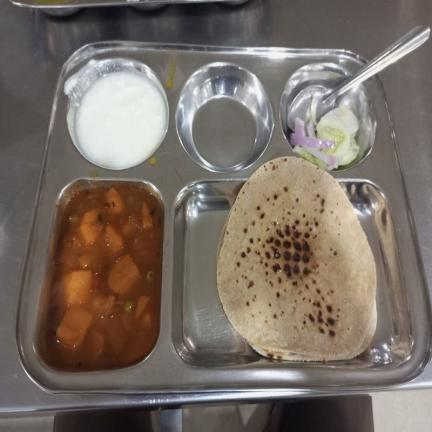Aalu Ki Sabji: (46, 186, 163, 371)
Dahi: (74, 72, 166, 170)
Plate: (14, 41, 432, 396)
Roti: (215, 156, 377, 363)
Salad: (288, 90, 359, 171)
